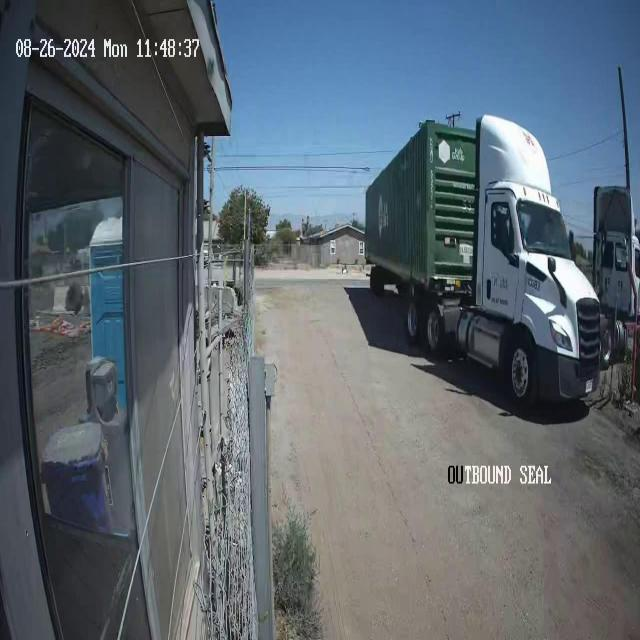TRUCK_IN: (364, 112, 602, 411)
